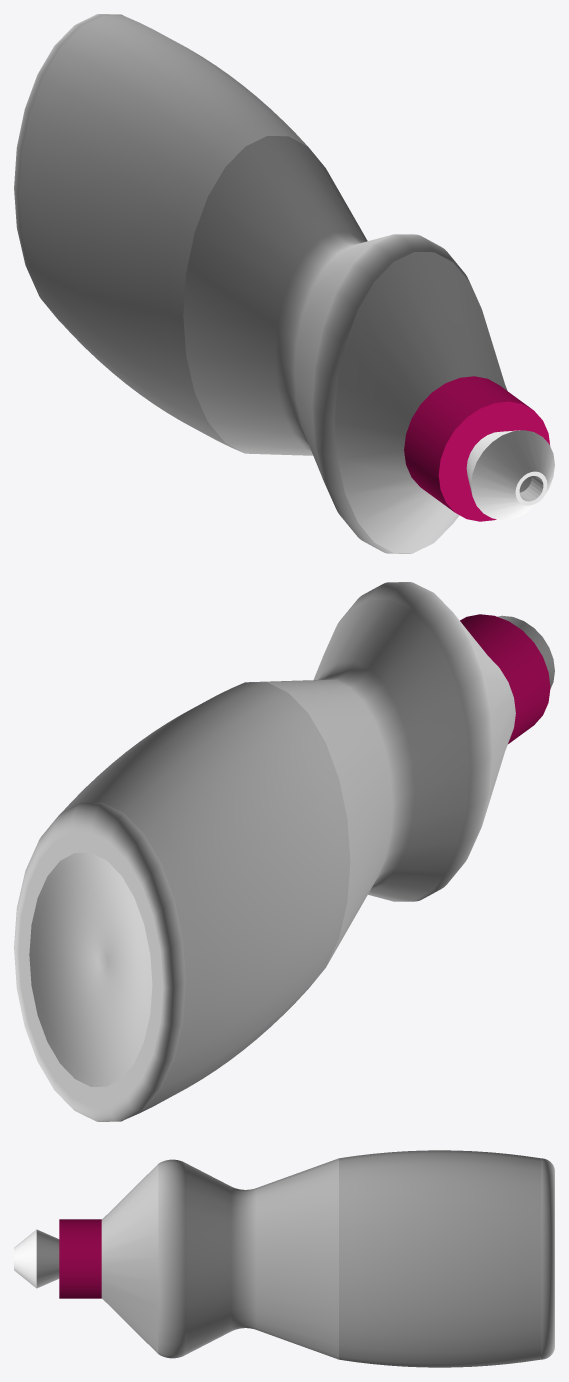
File: model_scale.obj
3 renders of one model, top to bottom at view 1: azimuth 30°, elevation 25°; view 2: azimuth 150°, elevation 25°; view 3: azimuth 270°, elevation 25°, orthographic. The views are drawn at different scales.
Parts seen in each view (by area): view 1: mesh6_mesh6-geometry, mesh4_mesh4-geometry, mesh1_mesh1-geometry; view 2: mesh6_mesh6-geometry, mesh4_mesh4-geometry, mesh1_mesh1-geometry; view 3: mesh6_mesh6-geometry, mesh4_mesh4-geometry, mesh1_mesh1-geometry.
Part boxes in pixels (bbox=[...]): mesh6_mesh6-geometry: bbox=[14, 14, 507, 553]; mesh4_mesh4-geometry: bbox=[404, 376, 550, 521]; mesh1_mesh1-geometry: bbox=[466, 430, 554, 520]; mesh6_mesh6-geometry: bbox=[14, 582, 515, 1121]; mesh4_mesh4-geometry: bbox=[460, 614, 550, 743]; mesh1_mesh1-geometry: bbox=[497, 615, 554, 688]; mesh6_mesh6-geometry: bbox=[101, 1150, 554, 1367]; mesh4_mesh4-geometry: bbox=[59, 1219, 101, 1298]; mesh1_mesh1-geometry: bbox=[14, 1229, 59, 1288].
Bounding box in the file's own units: 0.0534 × 0.0971 × 0.2261.
